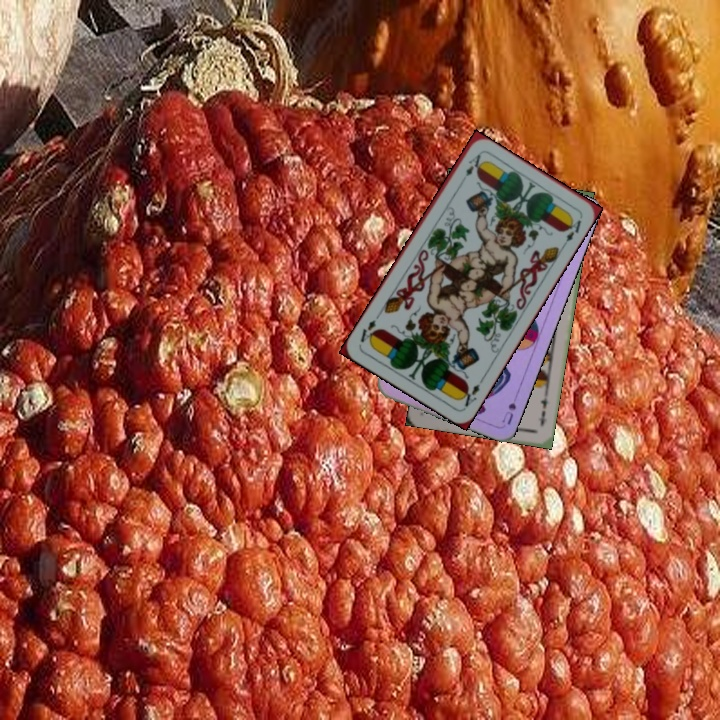E7: (534, 391, 550, 429)
EA: (456, 374, 486, 409), (461, 150, 483, 179)
SU: (498, 388, 520, 427)
